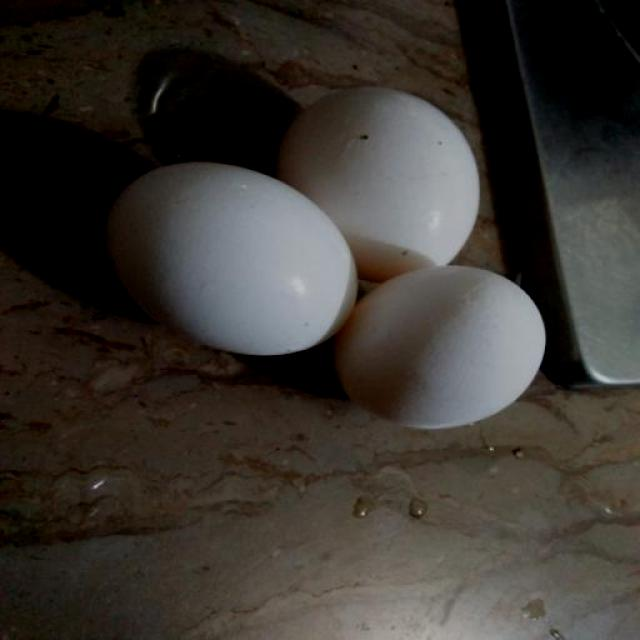telur: (93, 155, 361, 359), (278, 88, 480, 281), (332, 264, 546, 430)
